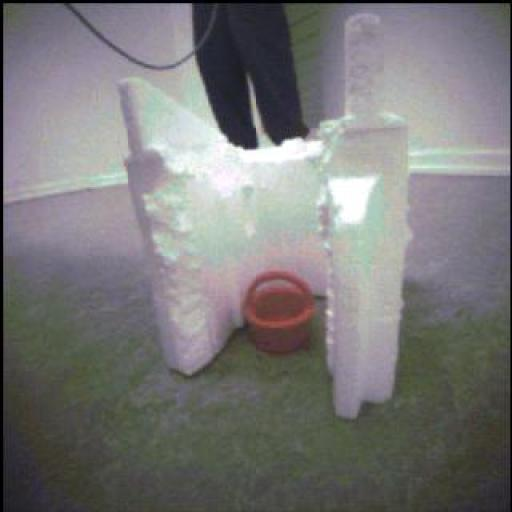Bucket: (241, 266, 318, 357)
